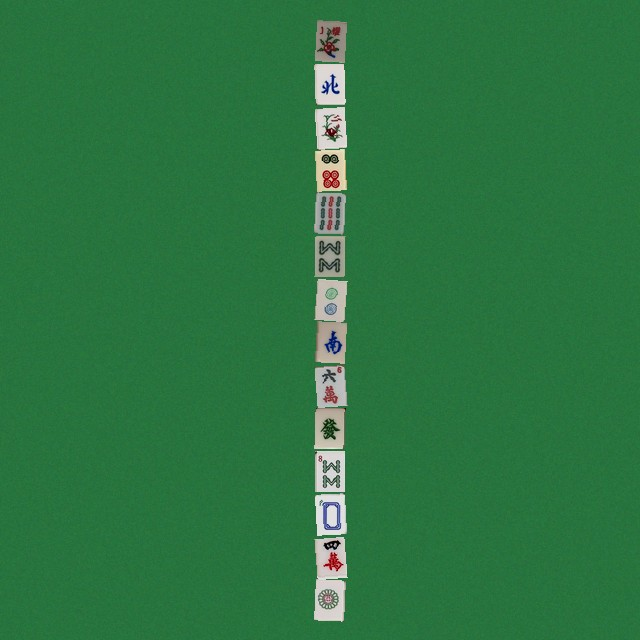tile: (314, 20, 344, 61), (314, 63, 344, 104), (314, 106, 344, 147), (314, 149, 344, 190), (314, 192, 344, 233), (314, 235, 344, 276), (314, 278, 344, 319), (314, 321, 344, 362), (314, 364, 344, 405), (314, 407, 344, 448), (314, 450, 344, 491), (314, 493, 344, 534), (314, 536, 344, 577), (314, 579, 344, 620)
